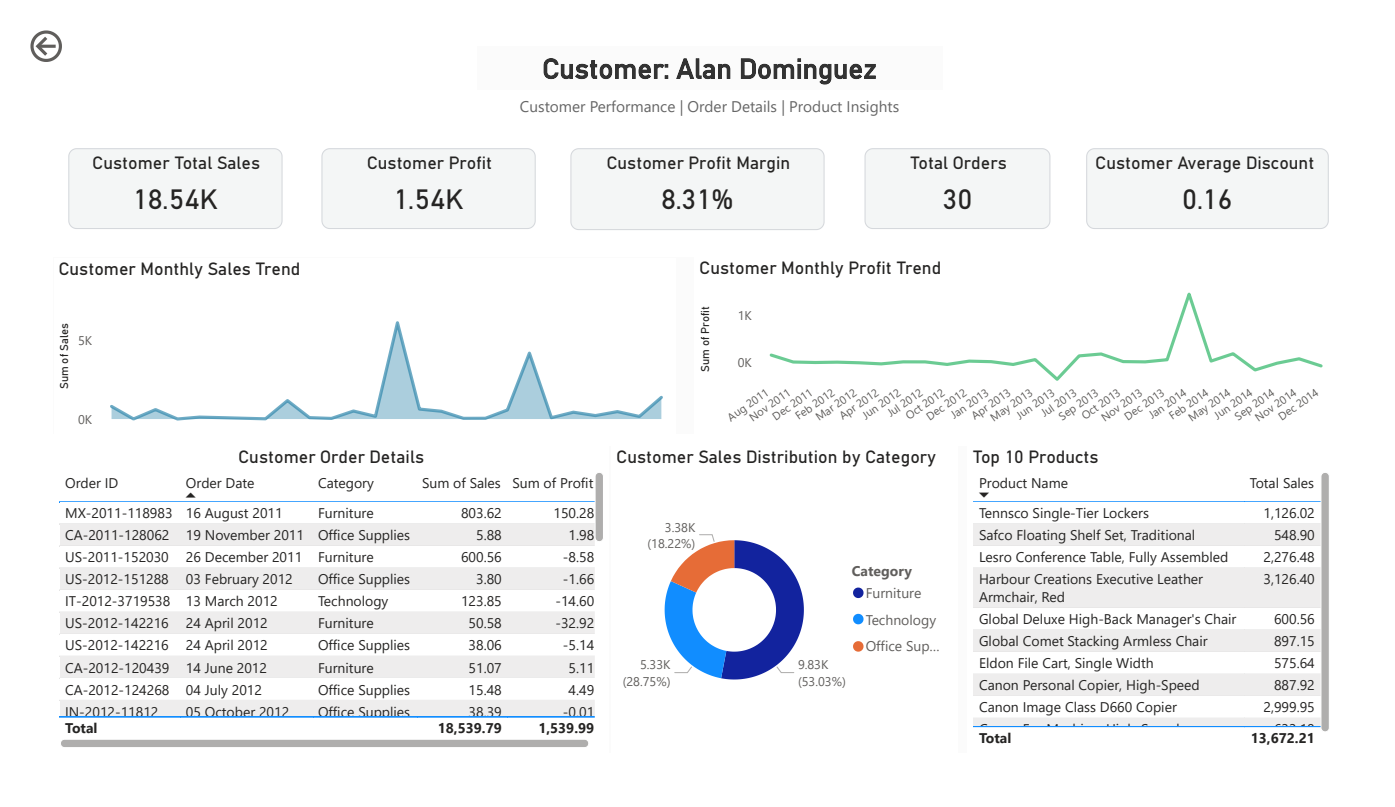

What the dashboard file says about the page in this screenshot:
{"tool":"powerbi","page":{"name":" Customer Insights","canvas":[1280,720],"ordinal":3},"visuals":[{"type":"shape","box":[418.8,55.6,442.3,40.2],"z":0},{"type":"shape","box":[418.8,20.1,442.3,35.5],"z":1000},{"type":"card","title":"Customer Total Sales","fields":{"Values":["_Measures.Total Sales"]},"box":[41.5,104.5,203.7,77.7],"z":2000},{"type":"card","title":"Customer Profit","fields":{"Values":["_Measures.Total Profit"]},"box":[280.7,104.9,203.9,78.2],"z":3000},{"type":"card","title":"Customer Profit Margin","fields":{"Values":["_Measures.Profit Margin %"]},"box":[519.4,103.6,241.3,78.2],"z":4000},{"type":"card","title":"Total Orders","fields":{"Values":["_Measures.Total Orders"]},"box":[797.4,104.3,177.8,77.5],"z":5000},{"type":"card","title":"Customer Average Discount","fields":{"Values":["_Measures.Average Discount %"]},"box":[1016,104.9,231.3,78.2],"z":6000},{"type":"tableEx","title":"Customer Order Details","fields":{"Values":["FactOrders.Order ID","FactOrders.Order Date","DimProduct.Category","Sum(FactOrders.Sales)","Sum(FactOrders.Profit)"]},"box":[24.4,416.3,533,249.5],"z":7000},{"type":"lineChart","title":"Customer Monthly Profit Trend","fields":{"Category":["DimDate.Month Year"],"Y":["Sum(FactOrders.Profit)"]},"box":[642,221.2,605.2,168.2],"z":8000},{"type":"tableEx","title":"Top 10 Products","fields":{"Values":["DimProduct.Product Name","_Measures.Total Sales"]},"box":[961.1,406,285.7,279.8],"z":9000},{"type":"areaChart","title":"Customer Monthly Sales Trend","fields":{"Y":["Sum(FactOrders.Sales)"],"Category":["DimDate.Month Year"]},"box":[26.8,222.5,587.1,166.2],"z":10000},{"type":"card","fields":{"Values":["DimCustomer.Selected Customer Title"]},"box":[418.8,19.4,442.3,41.5],"z":11000},{"type":"donutChart","title":"Customer Sales Distribution by Category","fields":{"Category":["DimProduct.Category"],"Y":["Sum(FactOrders.Sales)"]},"box":[556.9,410.8,387.4,263.4],"z":12000},{"type":"textbox","box":[418.8,55.6,442.3,40.2],"z":13000},{"type":"actionButton","box":[0,0,100,40],"z":14000}]}

Visuals, with their boxes in screenshot pixels (x1, y1, x2, y2), scaled from the page's 1280x720 canvas onto the 1395x807 screenshot:
shape: bbox(456, 62, 938, 107)
shape: bbox(456, 23, 938, 62)
"Customer Total Sales" card: bbox(45, 117, 267, 204)
"Customer Profit" card: bbox(306, 118, 528, 205)
"Customer Profit Margin" card: bbox(566, 116, 829, 204)
"Total Orders" card: bbox(869, 117, 1063, 204)
"Customer Average Discount" card: bbox(1107, 118, 1359, 205)
"Customer Order Details" tableEx: bbox(27, 467, 607, 746)
"Customer Monthly Profit Trend" lineChart: bbox(700, 248, 1359, 436)
"Top 10 Products" tableEx: bbox(1047, 455, 1359, 769)
"Customer Monthly Sales Trend" areaChart: bbox(29, 249, 669, 436)
card - DimCustomer.Selected Customer Title: bbox(456, 22, 938, 68)
"Customer Sales Distribution by Category" donutChart: bbox(607, 460, 1029, 756)
textbox: bbox(456, 62, 938, 107)
actionButton: bbox(0, 0, 109, 45)
